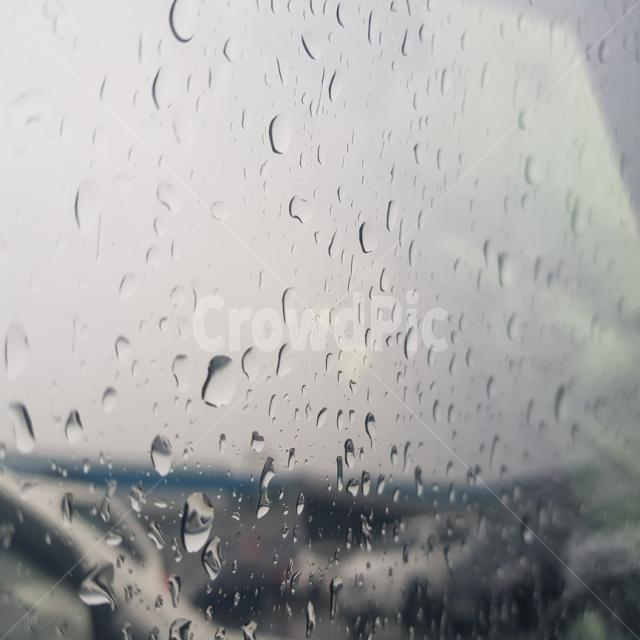raindrop: (64, 558, 134, 618), (170, 486, 217, 564), (194, 348, 241, 422), (0, 390, 44, 458), (259, 98, 300, 166), (252, 446, 281, 534), (162, 0, 204, 59), (148, 426, 185, 488), (148, 64, 184, 126), (298, 20, 337, 69), (58, 402, 94, 454), (282, 186, 322, 232), (199, 536, 230, 590), (358, 210, 383, 268), (496, 236, 518, 298), (364, 408, 384, 456)
